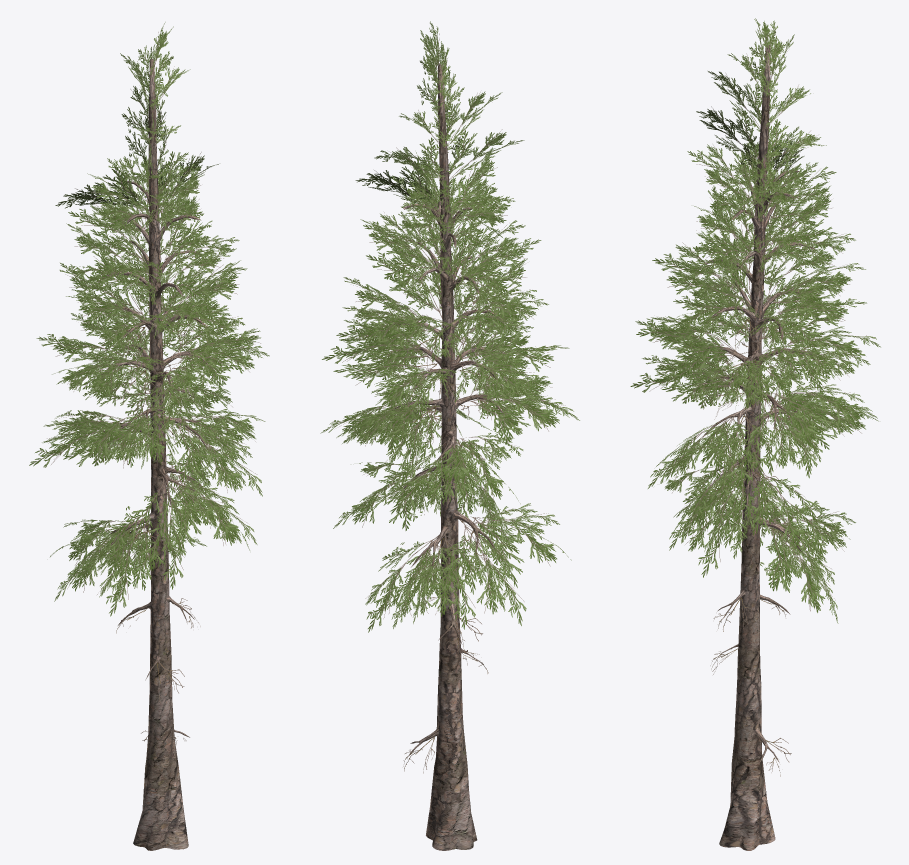
The model's file is tree_pine_b.gltf.
The picture shows the model from 3 angles, left to right: view 1: azimuth 30°, elevation 25°; view 2: azimuth 150°, elevation 25°; view 3: azimuth 270°, elevation 25°; orthographic projection. The views are drawn at different scales.
Parts seen in each view (by area): view 1: spruce branch_1, bark08_0, branch06_2; view 2: spruce branch_1, bark08_0, branch06_2; view 3: spruce branch_1, bark08_0, branch06_2.
Boxes of the visible parts, box(x1,y1,x2,y2) form: spruce branch_1: box(29, 22, 269, 616); bark08_0: box(101, 59, 212, 850); branch06_2: box(95, 311, 215, 744); spruce branch_1: box(320, 21, 579, 632); bark08_0: box(389, 64, 504, 850); branch06_2: box(397, 315, 516, 773); spruce branch_1: box(630, 18, 880, 623); bark08_0: box(702, 45, 815, 850); branch06_2: box(703, 303, 809, 776).
Size of the model in its own units: 3.22 by 10.52 by 3.16.
Materials: 3 (3 with a texture image).
